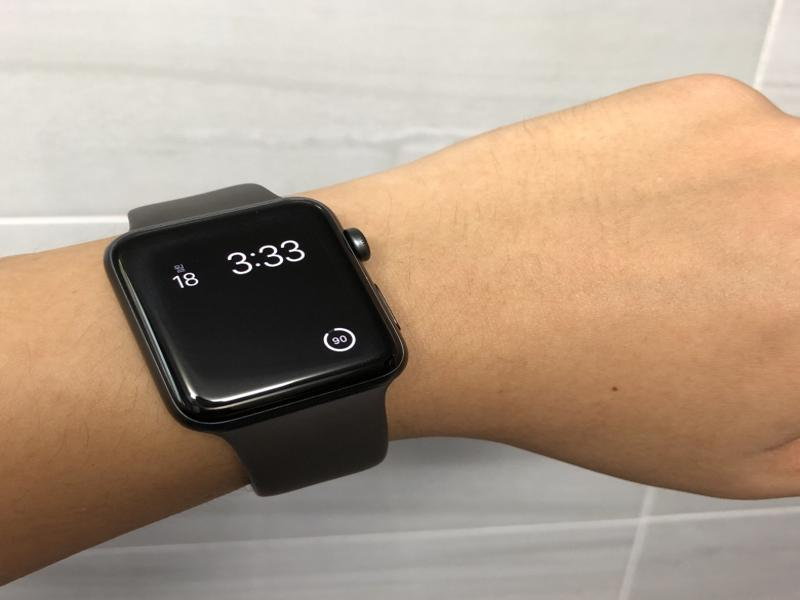watch: (104, 182, 408, 499)
